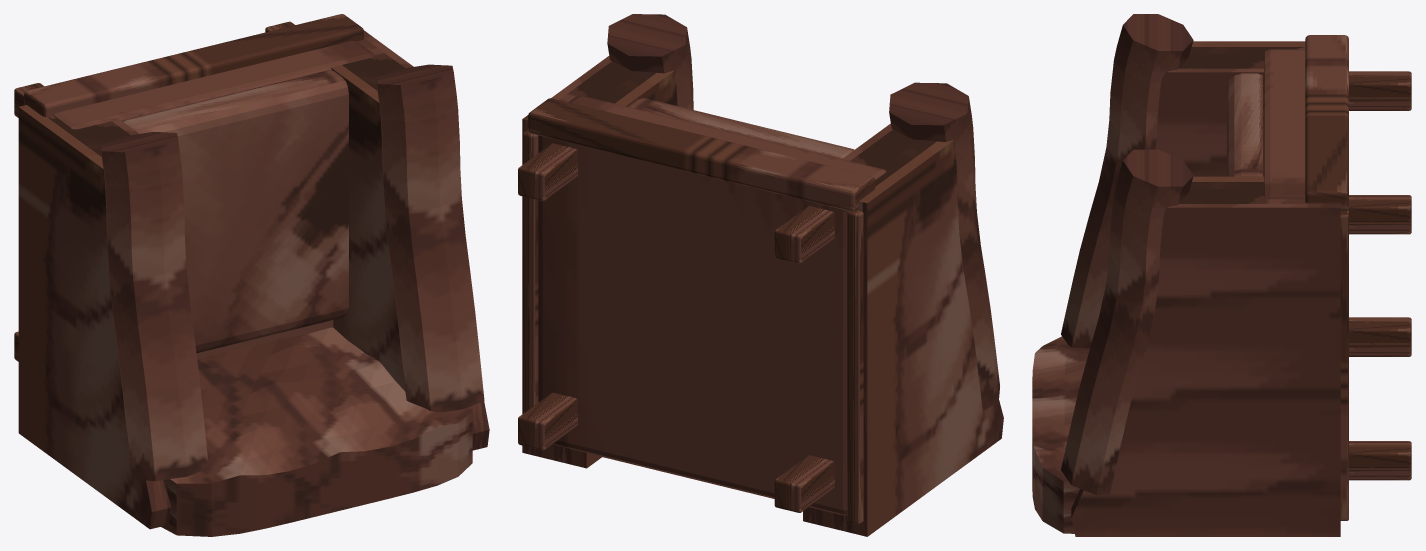
Rendered from pz_chair_seating_indoor_03_victorian_5.obj.
3 views of the same model, side by side, from view 1: azimuth 30°, elevation 25°; view 2: azimuth 150°, elevation 25°; view 3: azimuth 270°, elevation 25° (orthographic). The views are drawn at different scales.
Parts seen in each view (by area): view 1: Victorian_5_|_rounded_seat_cushion_0, Victorian_5_|_closed_curved_padded_back, Victorian_5_|_closed_upholstered_side_-1, Victorian_5_|_EDITABLE_rolled_upholstered_arm_-1, Victorian_5_|_EDITABLE_rolled_upholstered_arm_1, Victorian_5_|_closed_upholstered_side_1, Victorian_5_|_native_front_wooden_apron, Victorian_5_|_closed_upholstered_base; view 2: Victorian_5_|_closed_upholstered_base, Victorian_5_|_closed_upholstered_side_-1, Victorian_5_|_native_front_wooden_apron, Victorian_5_|_EDITABLE_rolled_upholstered_arm_-1, Victorian_5_|_wood_side_plinth_-0.443, Victorian_5_|_EDITABLE_rolled_upholstered_arm_1, Victorian_5_|_closed_upholstered_side_1, Victorian_5_|_wood_side_plinth_0.443, Victorian_5_|_rounded_seat_cushion_0, Victorian_5_|_short_wood_foot_(-0.35,_0.35), Victorian_5_|_short_wood_foot_(-0.35,_-0.3), Victorian_5_|_short_wood_foot_(0.35,_-0.3) (+1 smaller); view 3: Victorian_5_|_closed_upholstered_side_1, Victorian_5_|_EDITABLE_rolled_upholstered_arm_1, Victorian_5_|_EDITABLE_rolled_upholstered_arm_-1, Victorian_5_|_closed_upholstered_side_-1, Victorian_5_|_closed_curved_padded_back, Victorian_5_|_native_front_wooden_apron, Victorian_5_|_closed_upholstered_base, Victorian_5_|_rounded_seat_cushion_0, Victorian_5_|_wood_side_plinth_0.443, Victorian_5_|_short_wood_foot_(-0.35,_-0.3), Victorian_5_|_short_wood_foot_(-0.35,_0.35), Victorian_5_|_short_wood_foot_(0.35,_0.35) (+1 smaller).
Part boxes in pixels (x1,y1,x2,y2): Victorian_5_|_rounded_seat_cushion_0: (122,70,348,353); Victorian_5_|_closed_curved_padded_back: (161,327,472,536); Victorian_5_|_closed_upholstered_side_-1: (18,105,171,529); Victorian_5_|_EDITABLE_rolled_upholstered_arm_-1: (100,132,208,481); Victorian_5_|_EDITABLE_rolled_upholstered_arm_1: (376,64,484,411); Victorian_5_|_closed_upholstered_side_1: (331,30,489,450); Victorian_5_|_native_front_wooden_apron: (24,14,363,116); Victorian_5_|_closed_upholstered_base: (53,41,374,359); Victorian_5_|_closed_upholstered_base: (538,96,886,515); Victorian_5_|_closed_upholstered_side_-1: (803,123,1003,536); Victorian_5_|_native_front_wooden_apron: (528,98,875,211); Victorian_5_|_EDITABLE_rolled_upholstered_arm_-1: (889,82,999,410); Victorian_5_|_wood_side_plinth_-0.443: (847,210,863,524); Victorian_5_|_EDITABLE_rolled_upholstered_arm_1: (607,14,693,109); Victorian_5_|_closed_upholstered_side_1: (522,56,677,468); Victorian_5_|_wood_side_plinth_0.443: (522,130,538,413); Victorian_5_|_rounded_seat_cushion_0: (627,98,854,158); Victorian_5_|_short_wood_foot_(-0.35,_0.35): (774,206,834,263); Victorian_5_|_short_wood_foot_(-0.35,_-0.3): (774,455,834,512); Victorian_5_|_short_wood_foot_(0.35,_-0.3): (518,392,577,450); Victorian_5_|_closed_upholstered_side_1: (1071,176,1340,536); Victorian_5_|_EDITABLE_rolled_upholstered_arm_1: (1061,149,1193,495); Victorian_5_|_EDITABLE_rolled_upholstered_arm_-1: (1061,14,1193,348); Victorian_5_|_closed_upholstered_side_-1: (1155,41,1305,176); Victorian_5_|_closed_curved_padded_back: (1032,336,1089,533); Victorian_5_|_native_front_wooden_apron: (1305,35,1348,211); Victorian_5_|_closed_upholstered_base: (1262,49,1305,199); Victorian_5_|_rounded_seat_cushion_0: (1227,73,1262,176); Victorian_5_|_wood_side_plinth_0.443: (1340,210,1348,520); Victorian_5_|_short_wood_foot_(-0.35,_-0.3): (1349,317,1411,356); Victorian_5_|_short_wood_foot_(-0.35,_0.35): (1349,71,1411,110); Victorian_5_|_short_wood_foot_(0.35,_0.35): (1348,195,1411,234).
Bounding box in the file's own units: 0.9787 × 0.9708 × 0.9088.
Materials: 1 (1 with a texture image).
